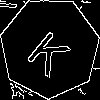K: (24, 22, 79, 79)
